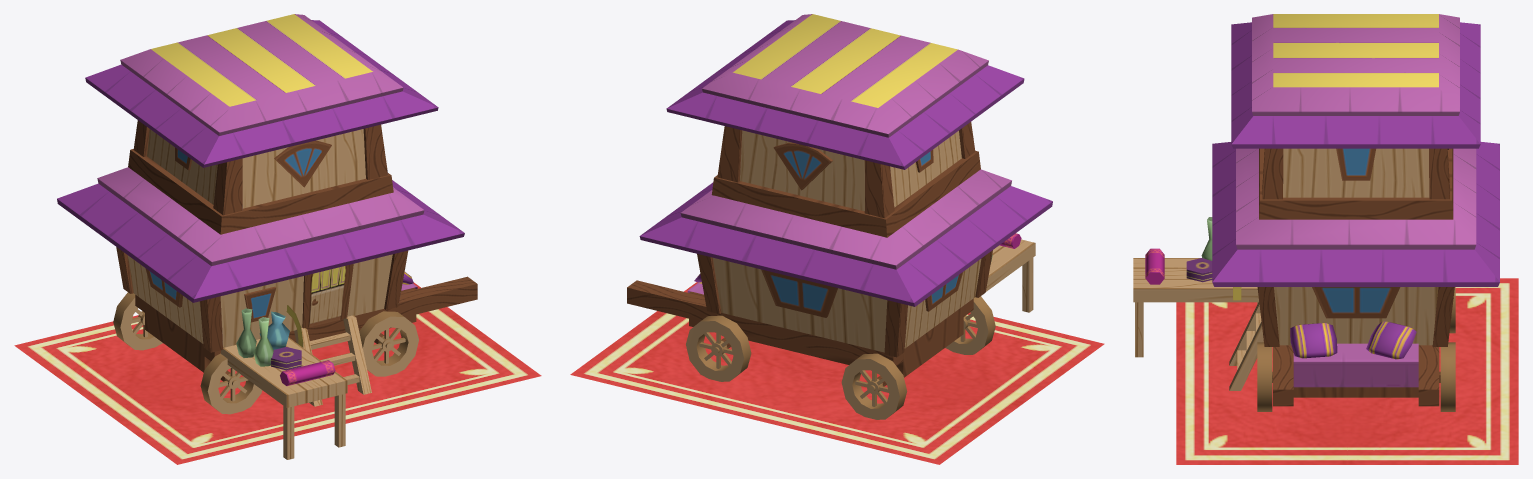
The model's file is building_Accessories_lv3.FBX.
The picture shows the model from 3 angles, left to right: view 1: azimuth 30°, elevation 25°; view 2: azimuth 150°, elevation 25°; view 3: azimuth 270°, elevation 25°; orthographic projection. The views are drawn at different scales.
Visible parts, largest first — view 1: building_Accessories_roof_lv3, building_Accessories_etc01_lv3, building_Accessories_etc02_lv3, building_Accessories_lv3; view 2: building_Accessories_roof_lv3, building_Accessories_etc02_lv3, building_Accessories_etc01_lv3, building_Accessories_lv3; view 3: building_Accessories_roof_lv3, building_Accessories_etc02_lv3, building_Accessories_etc01_lv3, building_Accessories_lv3.
Part boxes in pixels (x1,y1,x2,y2): building_Accessories_roof_lv3: [57, 14, 464, 302]; building_Accessories_etc01_lv3: [113, 120, 477, 459]; building_Accessories_etc02_lv3: [14, 282, 541, 464]; building_Accessories_lv3: [127, 129, 392, 347]; building_Accessories_roof_lv3: [639, 14, 1052, 306]; building_Accessories_etc02_lv3: [570, 233, 1104, 464]; building_Accessories_etc01_lv3: [627, 122, 1035, 419]; building_Accessories_lv3: [713, 130, 981, 352]; building_Accessories_roof_lv3: [1212, 14, 1499, 286]; building_Accessories_etc02_lv3: [1145, 217, 1518, 464]; building_Accessories_etc01_lv3: [1133, 148, 1455, 411]; building_Accessories_lv3: [1274, 148, 1438, 345].
Size of the model in its own units: 522 by 415 by 456.
